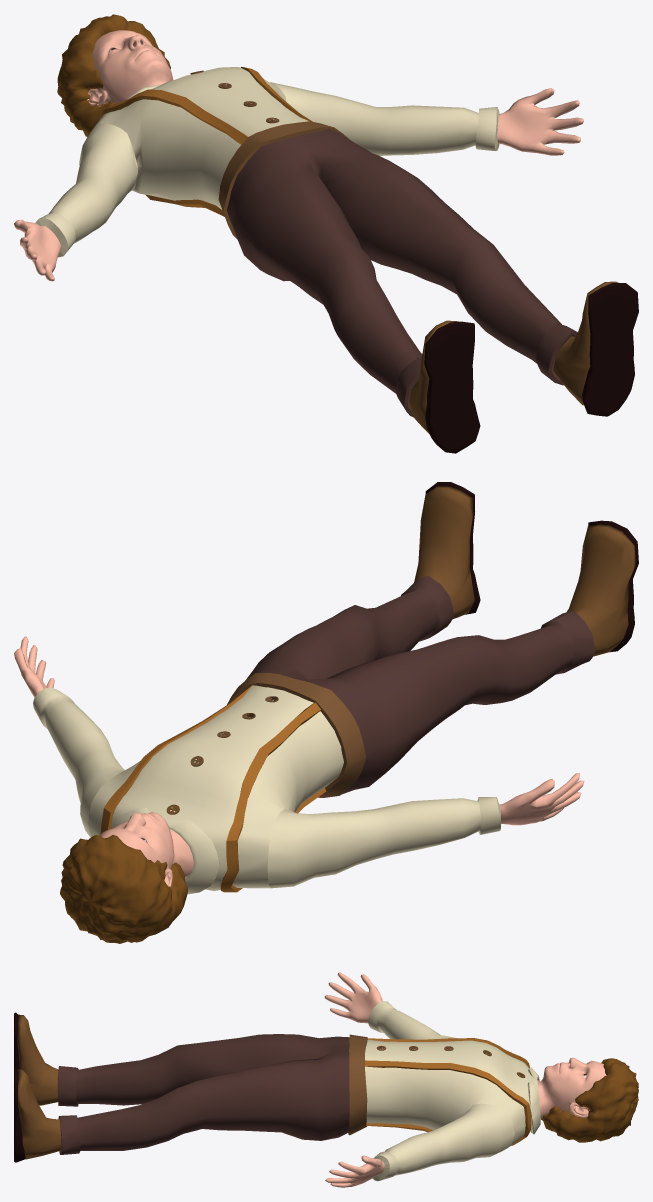
File: armsss.fbx
3 renders of one model, top to bottom at view 1: azimuth 30°, elevation 25°; view 2: azimuth 150°, elevation 25°; view 3: azimuth 270°, elevation 25°, orthographic. The views are drawn at different scales.
Visible parts, largest first — view 1: MaleHead_002, MaleHead_002.001; view 2: MaleHead_002, MaleHead_002.001; view 3: MaleHead_002, MaleHead_002.001.
Part boxes in pixels (<box>): MaleHead_002: <box>57,14,638,453</box>; MaleHead_002.001: <box>14,82,583,281</box>; MaleHead_002: <box>60,482,638,943</box>; MaleHead_002.001: <box>14,636,584,888</box>; MaleHead_002: <box>14,1012,638,1162</box>; MaleHead_002.001: <box>324,972,514,1187</box>.
Bounding box in the file's own units: 48400 × 11296 × 66700.
